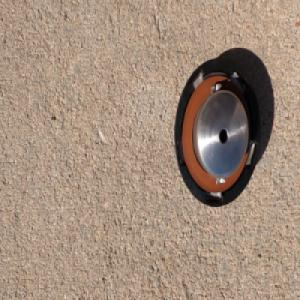FuelCap: (173, 56, 261, 209)
